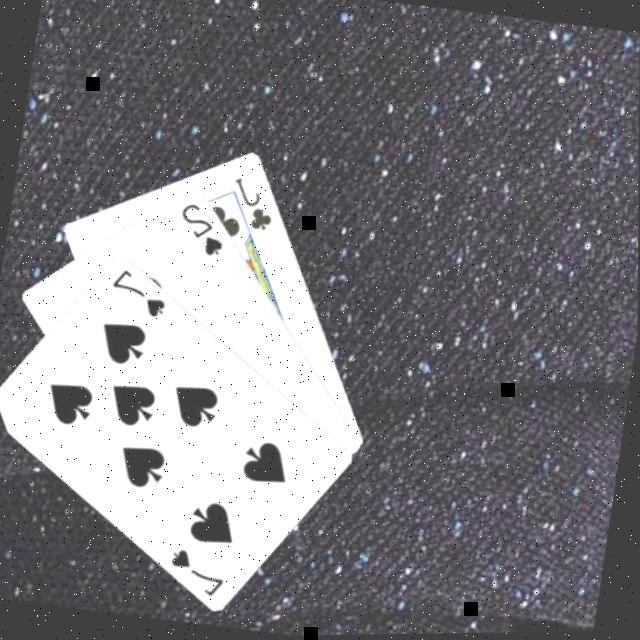2S: (174, 198, 234, 262)
7S: (107, 264, 175, 324), (165, 544, 233, 604)
JC: (227, 174, 284, 237)
